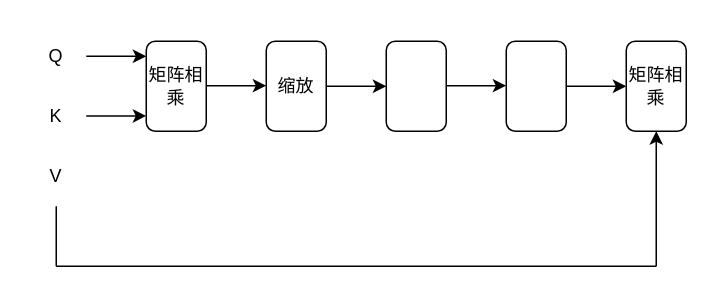
Some shapes in this 713 by 305 pixel diagram are drawn without their labels. The shapes that lost their labels are listed below. From the top down, each one's centre as x and y in pixels, then its label:
point (415, 85): 掩码 （可选)
point (535, 85): Softmax
